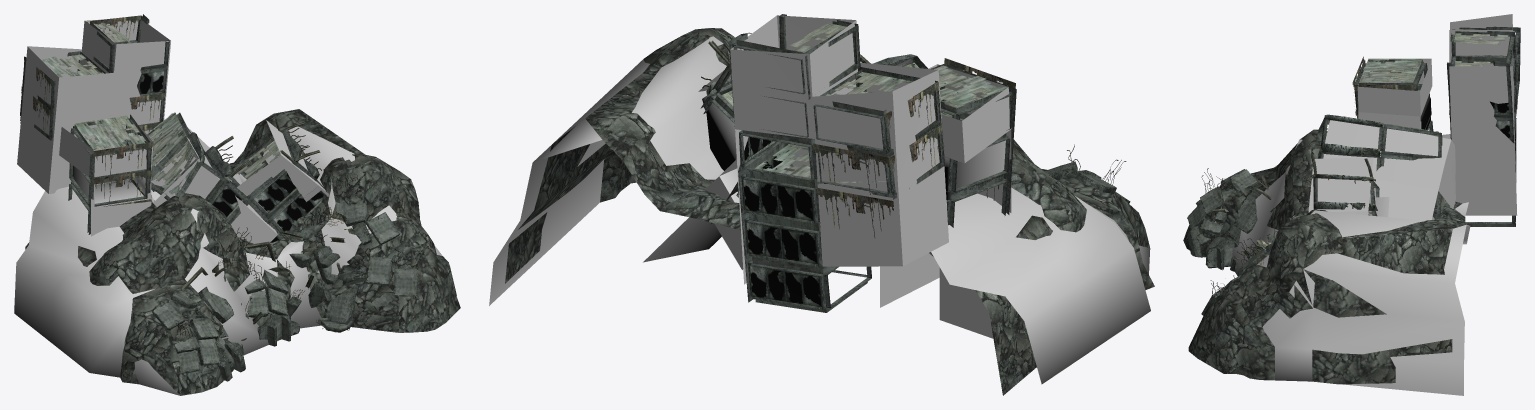
Rendered from Blockade02.FBX.
3 renders of one model, left to right at view 1: azimuth 30°, elevation 25°; view 2: azimuth 150°, elevation 25°; view 3: azimuth 270°, elevation 25°, orthographic. The views are drawn at different scales.
Parts seen in each view (by area): view 1: RubbleBlockade02_lod:0, RubbleBlockade02:42, RubbleBlockade02:24, RubbleBlockade02:5, RubbleBlockade02:15, RubbleBlockade02:33, RubbleBlockade02:28; view 2: RubbleBlockade02_lod:0, RubbleBlockade02:42, RubbleBlockade02:24, RubbleBlockade02:5, RubbleBlockade02:33; view 3: RubbleBlockade02_lod:0, RubbleBlockade02:42, RubbleBlockade02:24, RubbleBlockade02:15, RubbleBlockade02:5, RubbleBlockade02:28, RubbleBlockade02:33.
Part boxes in pixels (left/top/right/bottom): RubbleBlockade02_lod:0: left=14, top=19, right=442, bottom=395; RubbleBlockade02:42: left=25, top=109, right=460, bottom=395; RubbleBlockade02:24: left=20, top=14, right=417, bottom=380; RubbleBlockade02:5: left=20, top=15, right=280, bottom=206; RubbleBlockade02:15: left=152, top=129, right=417, bottom=381; RubbleBlockade02:33: left=137, top=71, right=323, bottom=242; RubbleBlockade02:28: left=175, top=119, right=428, bottom=341; RubbleBlockade02_lod:0: left=489, top=15, right=1150, bottom=384; RubbleBlockade02:42: left=505, top=28, right=1154, bottom=395; RubbleBlockade02:24: left=700, top=14, right=1129, bottom=312; RubbleBlockade02:5: left=721, top=23, right=1015, bottom=237; RubbleBlockade02:33: left=742, top=137, right=823, bottom=309; RubbleBlockade02_lod:0: left=1214, top=14, right=1517, bottom=395; RubbleBlockade02:42: left=1183, top=129, right=1465, bottom=384; RubbleBlockade02:24: left=1187, top=27, right=1520, bottom=315; RubbleBlockade02:15: left=1187, top=114, right=1382, bottom=314; RubbleBlockade02:5: left=1326, top=26, right=1520, bottom=215; RubbleBlockade02:28: left=1201, top=146, right=1380, bottom=297; RubbleBlockade02:33: left=1318, top=101, right=1516, bottom=171.
Size of the model in its own units: 33.61 by 22.14 by 27.31.
